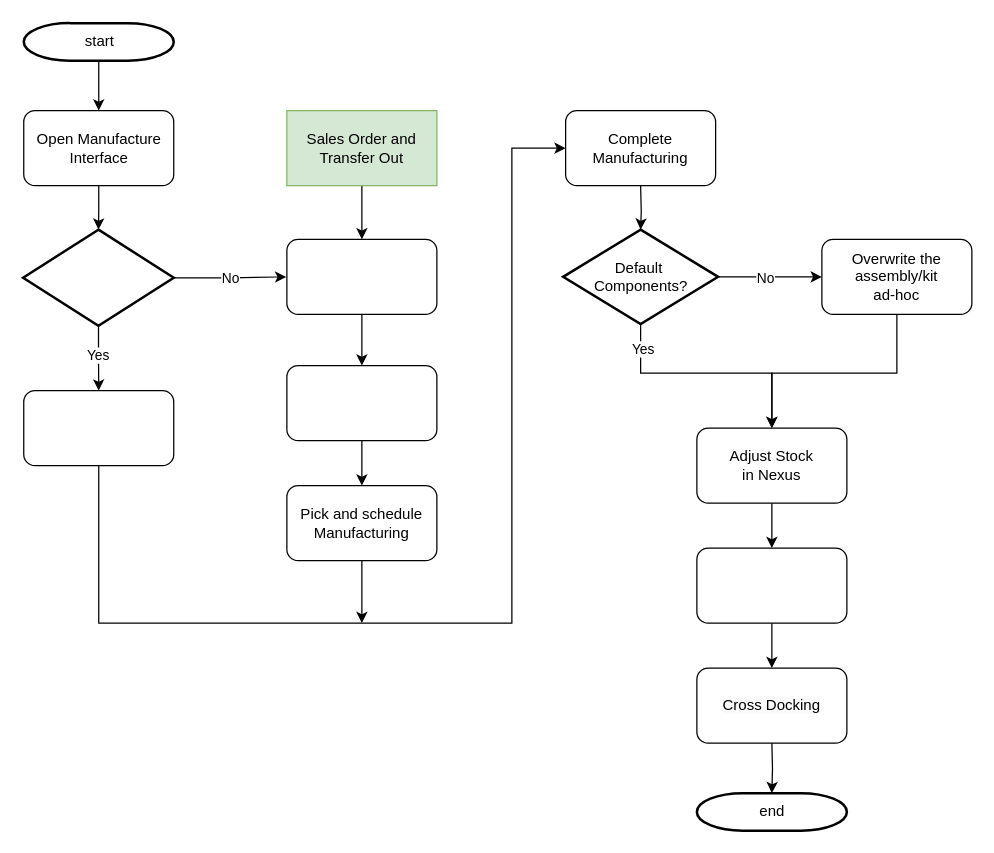
The diagram is 994 pixels wide and 853 high, and some of its shapes have lost their labels. The centre of each missing label's shape, as x and y in pixels:
"Existing Manufacture?" goes at [97,277].
"Print Pick Marker Or Pick to Pallet" goes at [771,585].
"Select New Manufacture" goes at [361,276].
"Show assembly/kit and Location" goes at [361,402].
"Tap Manufacture" goes at [98,427].
